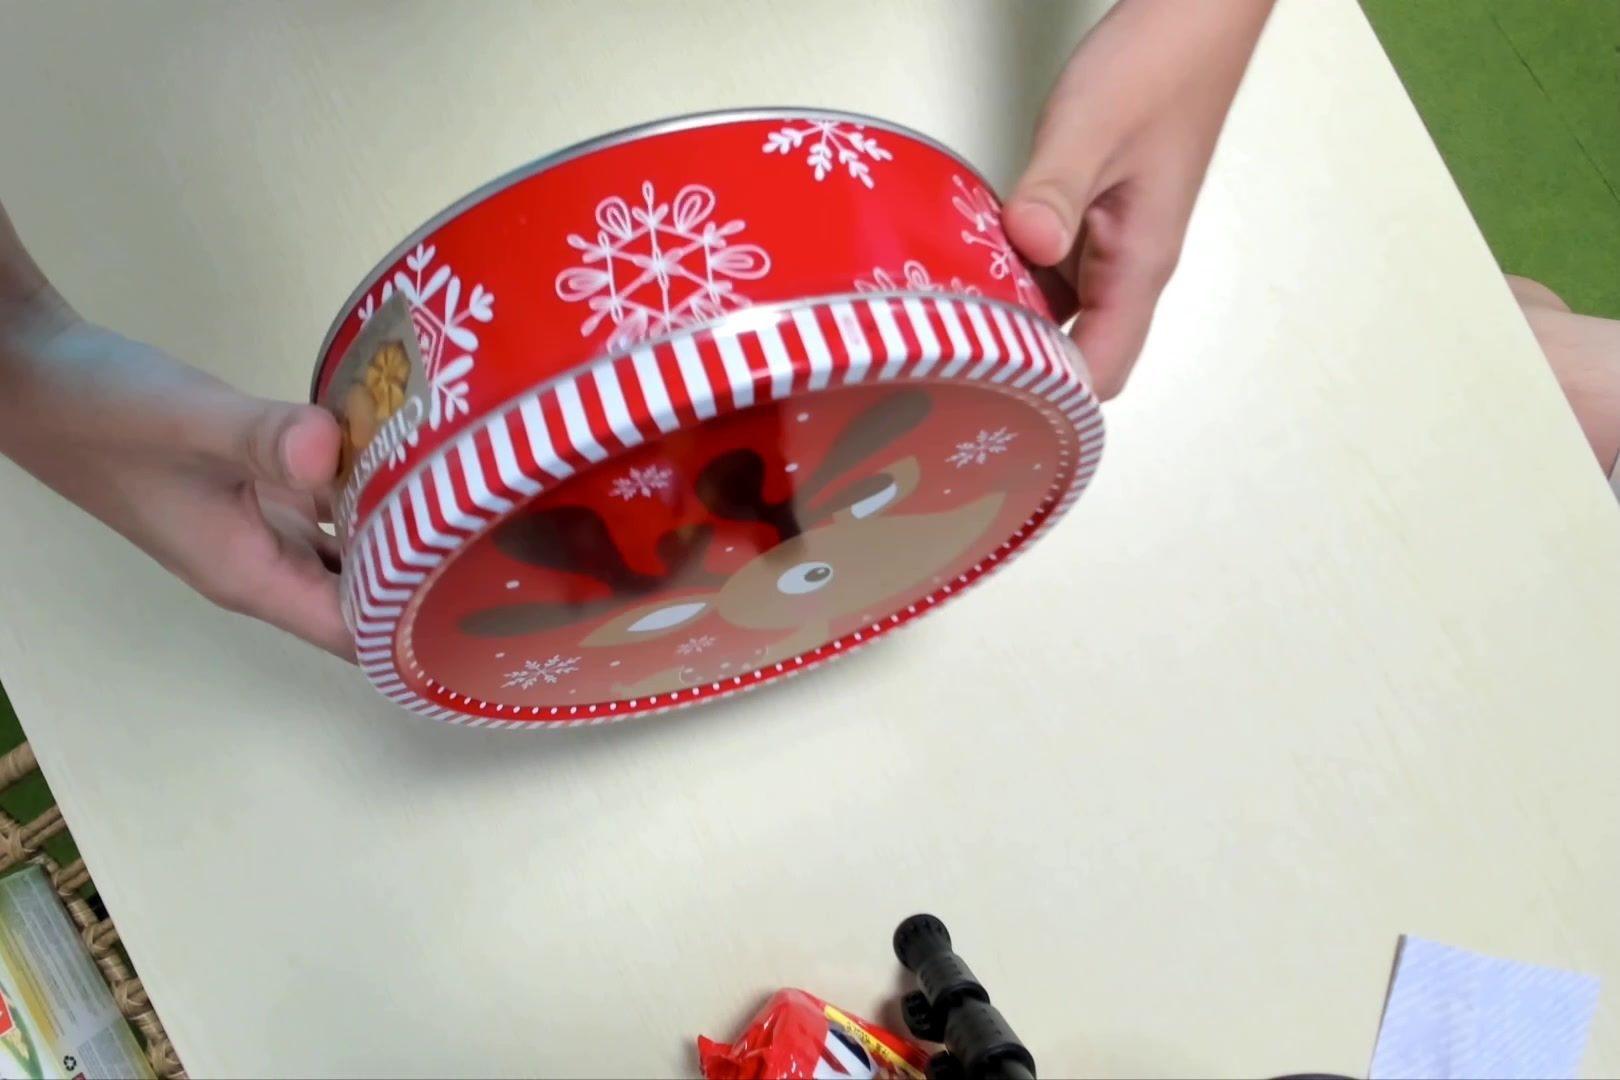BiscuitsCrackersCookies_400-499g_NonHalal_NonHealthy: (309, 87, 1105, 745)
